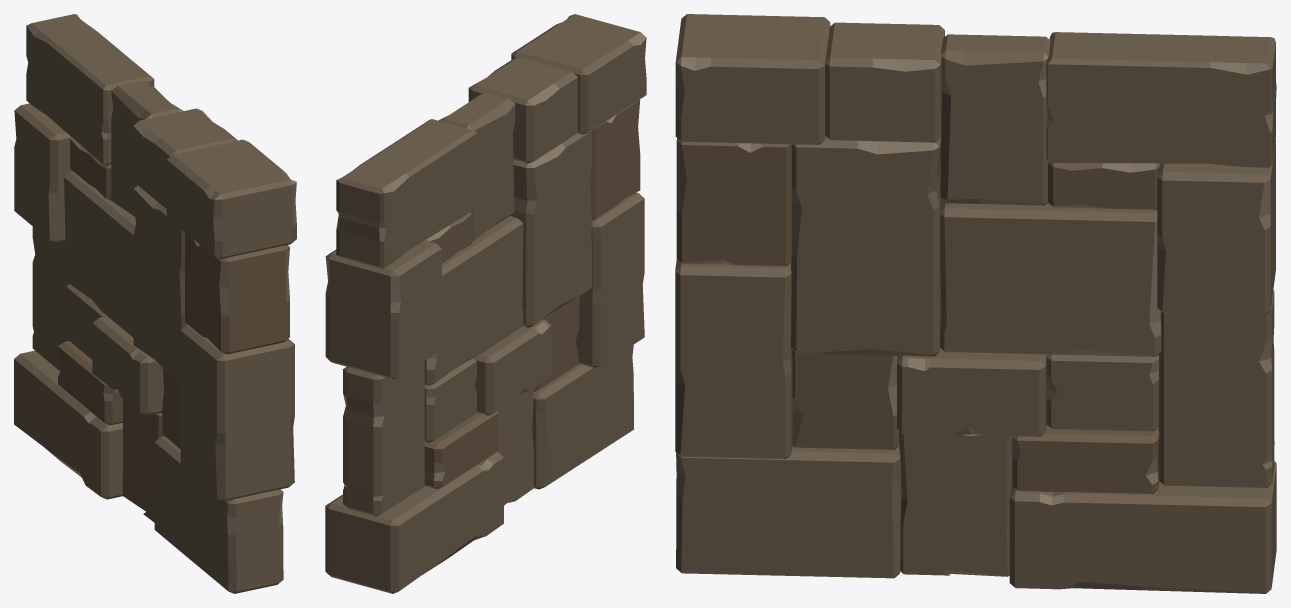
Rendered from entrada_wall_east_0_lev3.glb.
3 views of the same model, side by side, from view 1: azimuth 30°, elevation 25°; view 2: azimuth 150°, elevation 25°; view 3: azimuth 270°, elevation 25° (orthographic). The views are drawn at different scales.
Parts seen in each view (by area): view 1: entrada_wall_east_0_lev3; view 2: entrada_wall_east_0_lev3; view 3: entrada_wall_east_0_lev3.
Boxes of the visible parts, left/top/right/bottom form: entrada_wall_east_0_lev3: left=14, top=14, right=296, bottom=593; entrada_wall_east_0_lev3: left=325, top=14, right=646, bottom=593; entrada_wall_east_0_lev3: left=675, top=14, right=1276, bottom=593.
Bounding box in the file's own units: 1.54 × 5.99 × 6.22.
